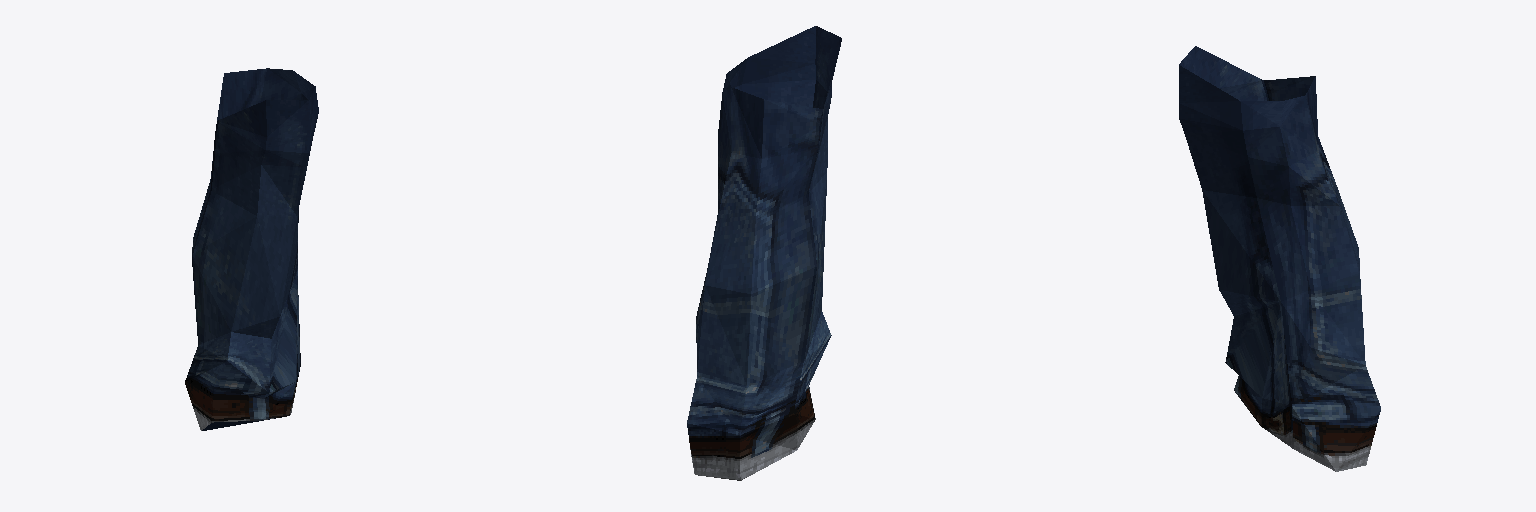
3 views of the same model, side by side, from view 1: azimuth 30°, elevation 25°; view 2: azimuth 150°, elevation 25°; view 3: azimuth 270°, elevation 25° (orthographic).
Visible parts, largest first — view 1: PIERNAS; view 2: PIERNAS; view 3: PIERNAS.
Boxes of the visible parts, box(x1,y1,x2,y2) form: PIERNAS: box(185, 68, 318, 430); PIERNAS: box(687, 26, 841, 480); PIERNAS: box(1179, 46, 1380, 471).
Bounding box in the file's own units: 0.1926 × 0.6335 × 0.2989.
1 materials, 1 textured.